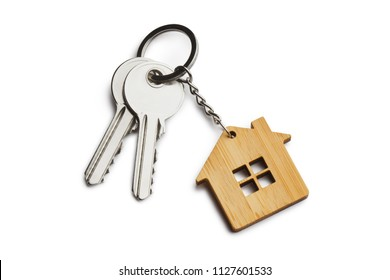key: (83, 56, 187, 202)
